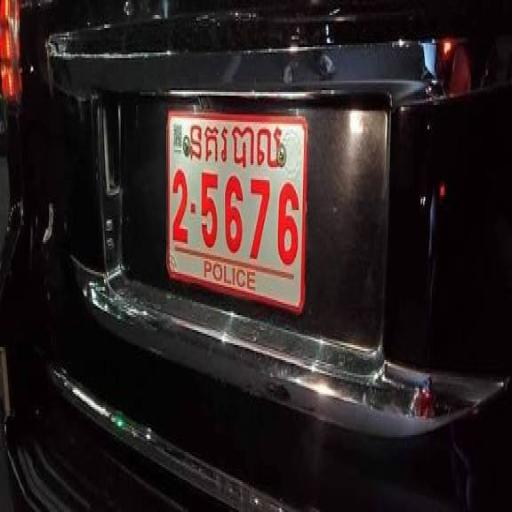Plate Number: (165, 110, 302, 303)
